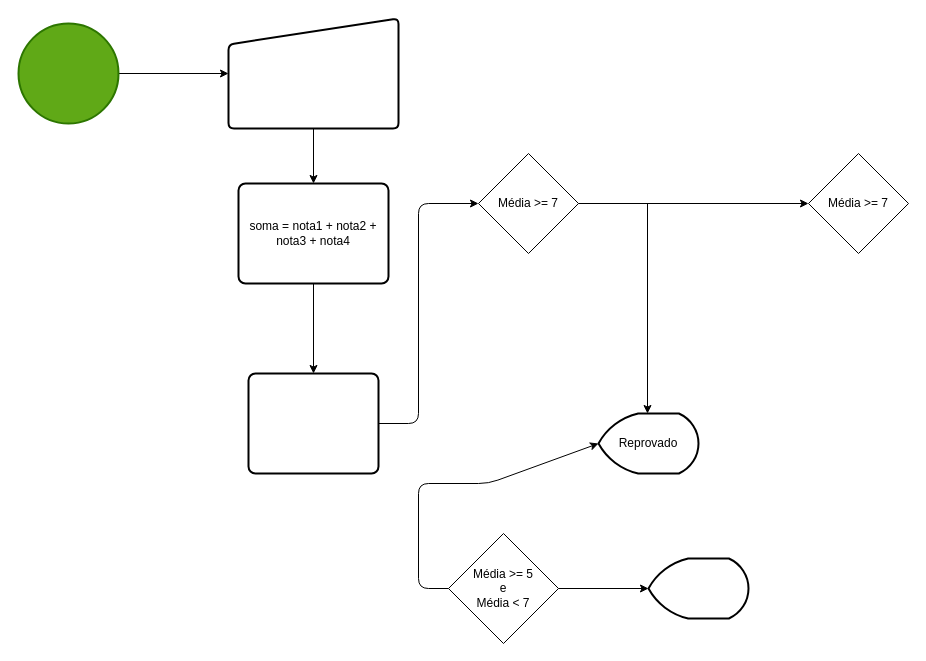
Image size: 926x661. Some labels were removed from this diagram. Each missing label, with the box of its shape:
media = soma / 4: (247, 372, 379, 474)
nota1 = X nota2 = X nota3 = X nota4 = X: (227, 17, 399, 129)
Recuperação: (647, 557, 749, 619)
